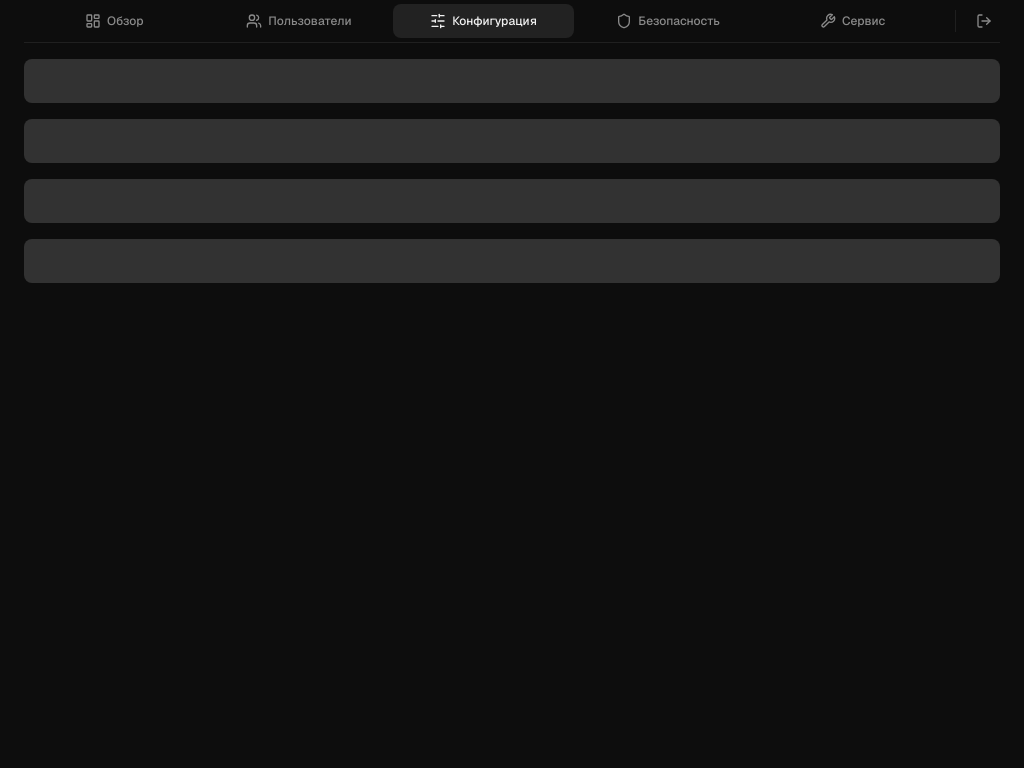
it: ServerTabs › navigate-away dirty guard › disconnect from a dirty Configuration tab is blocked when user chooses Stay
This screenshot has width=1024, height=768.
Click the button named "Отключиться от сервера". click: (984, 21)
box: top-left (968, 5), bottom-right (1000, 37)
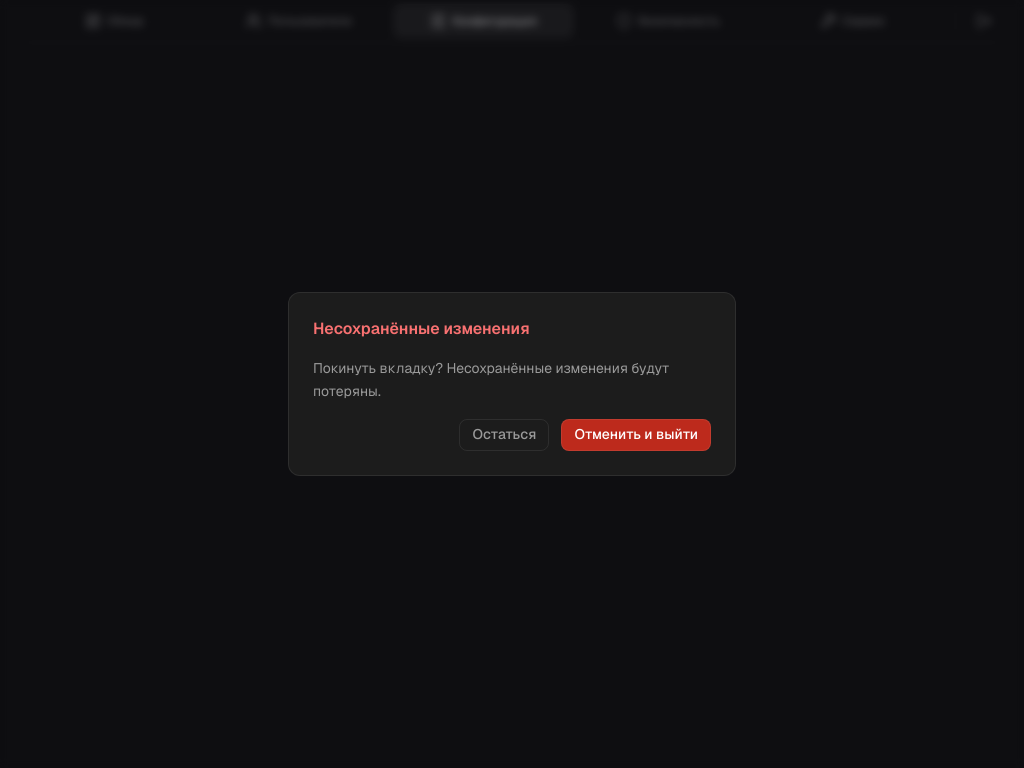
Click the button "Остаться". click: (504, 435)
box: top-left (459, 419), bottom-right (549, 451)
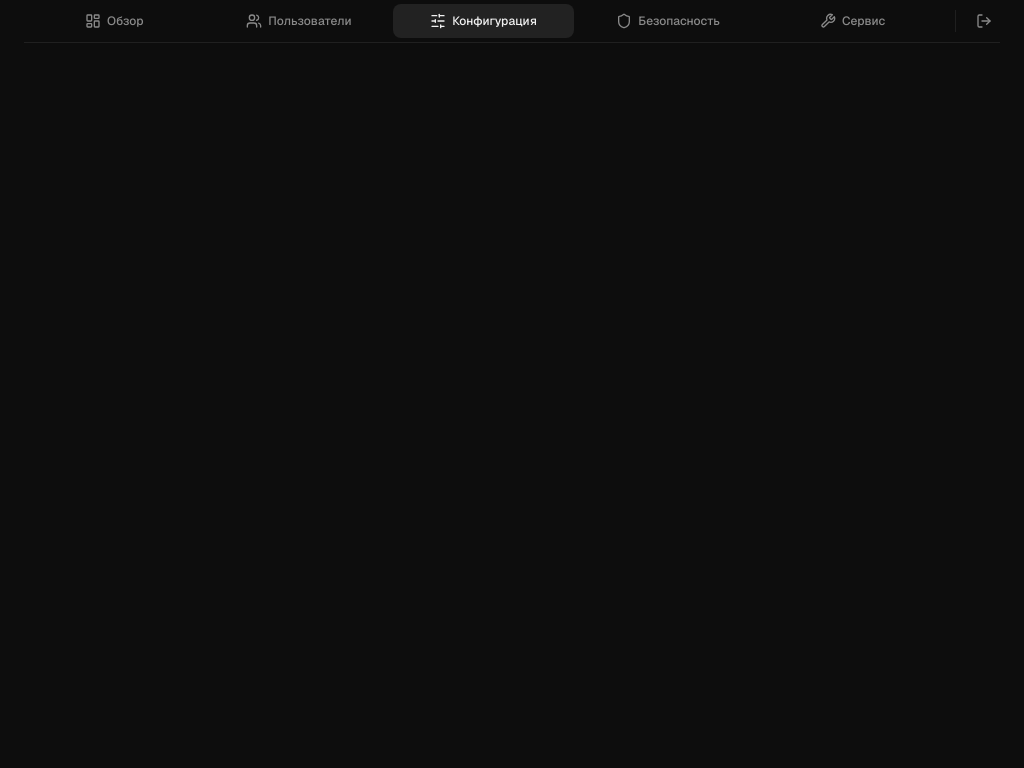
Expected: the heading "Несохранённые изменения" is gone
